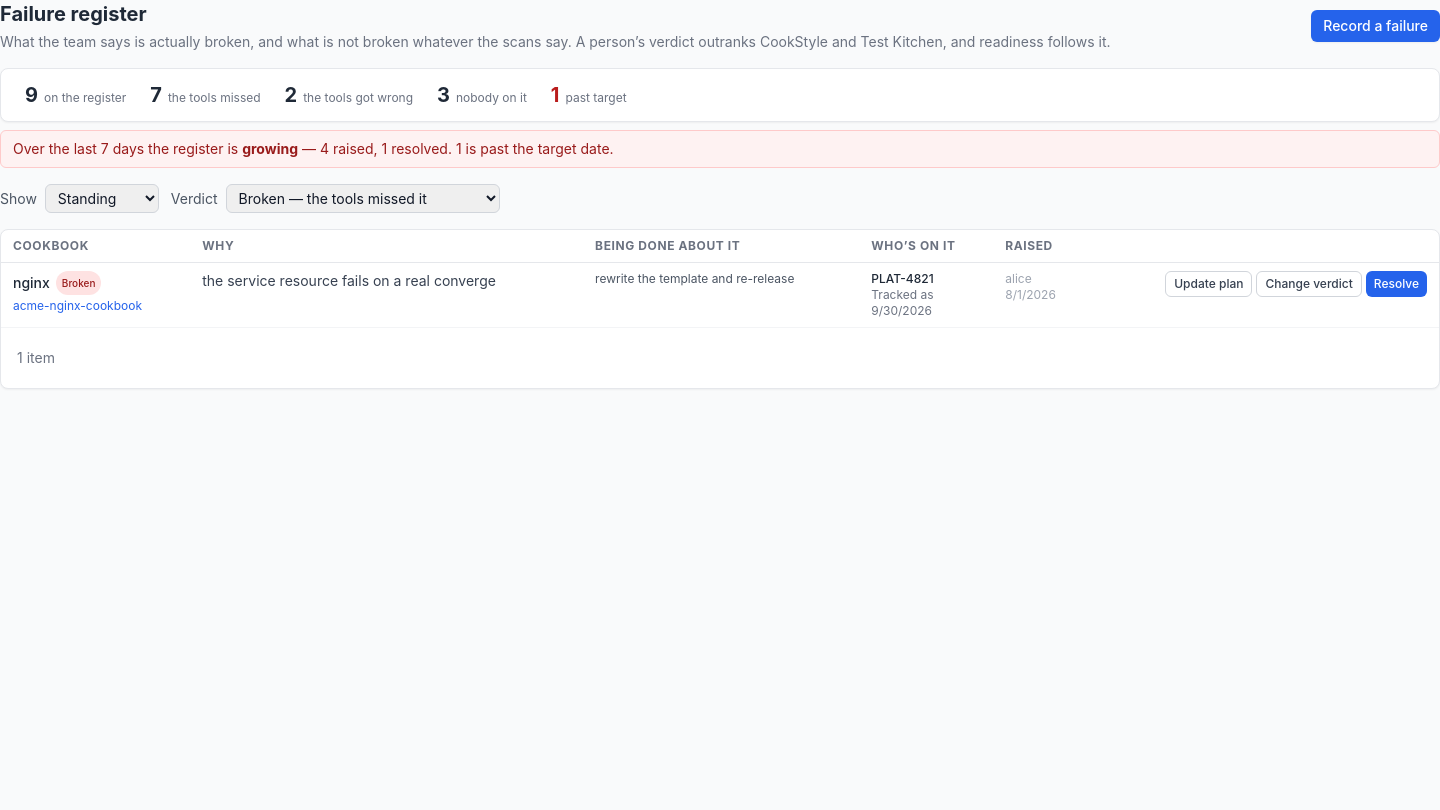
Test case: FailureRegisterPage › will not submit a repo name that was typed rather than chosen
This screenshot has width=1440, height=810.
Step 1. Click the button "Record a failure" → {"x": 1376, "y": 26}, box [1311,10,1439,42]
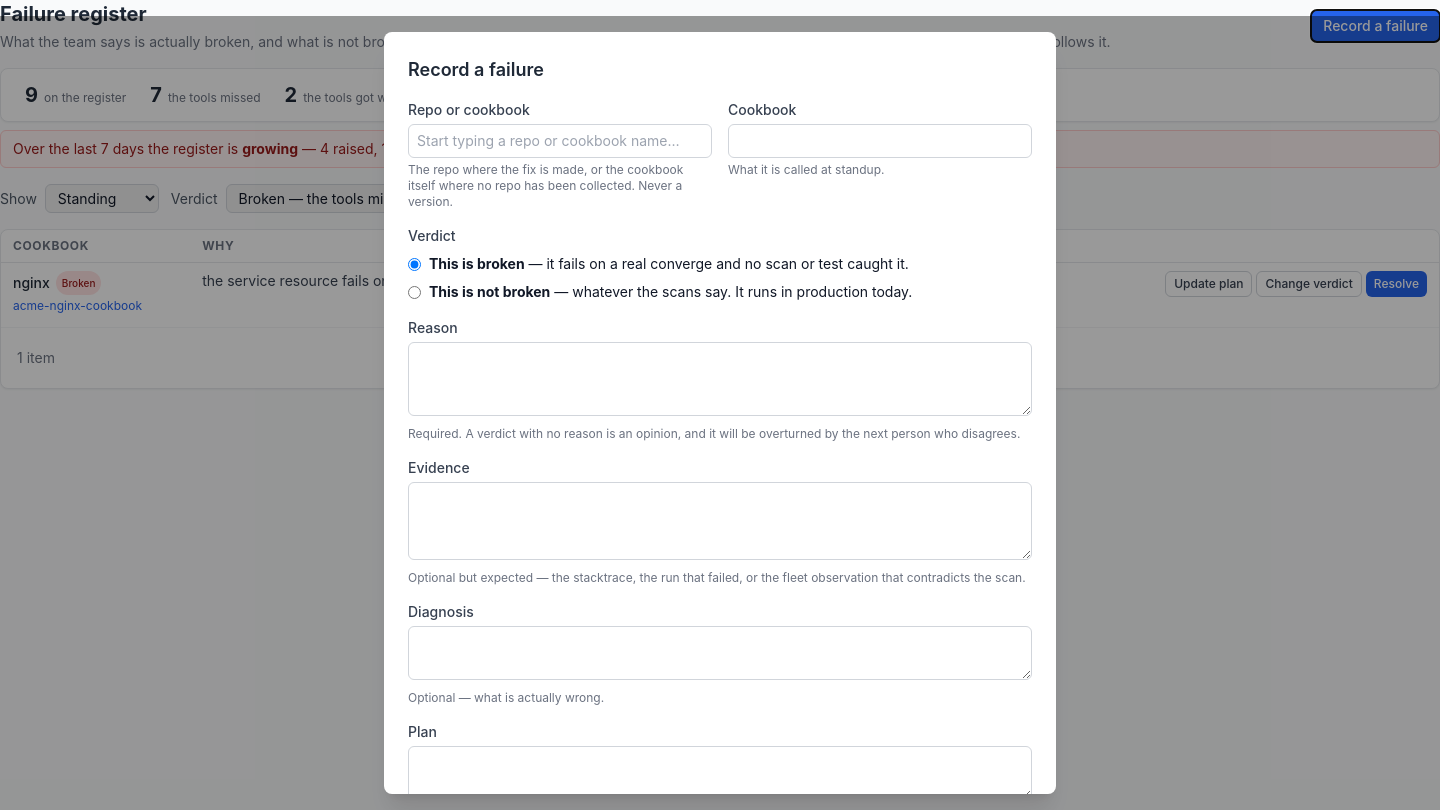
Step 2. Type "a-repo-that-is-not-real" into the dropdown labelled "Repo or cookbook" → {"x": 560, "y": 141}, box [408,124,712,158]
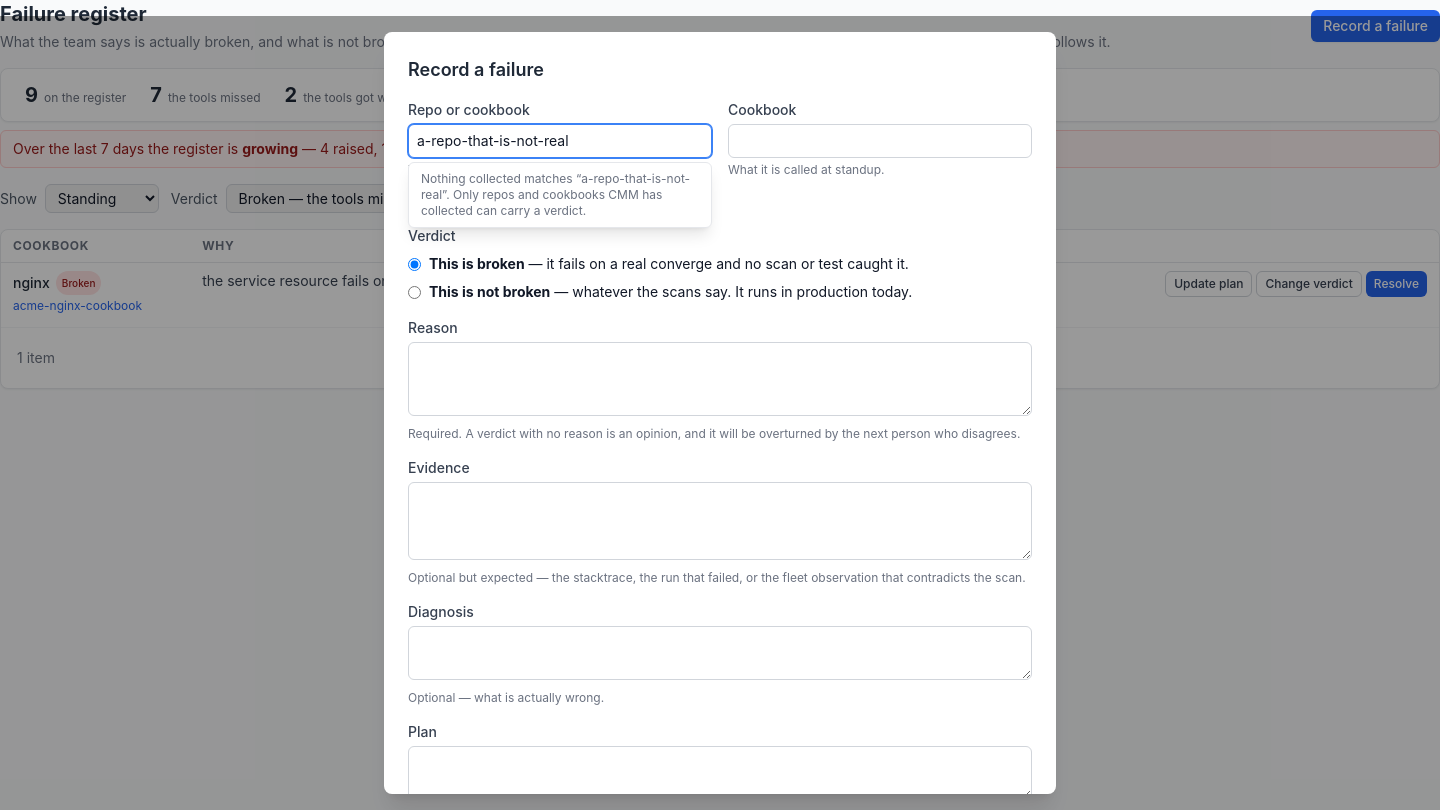
Step 3. Type "whatever" into the field labelled "Cookbook What it is called at standup." → {"x": 880, "y": 141}, box [728,124,1032,158]
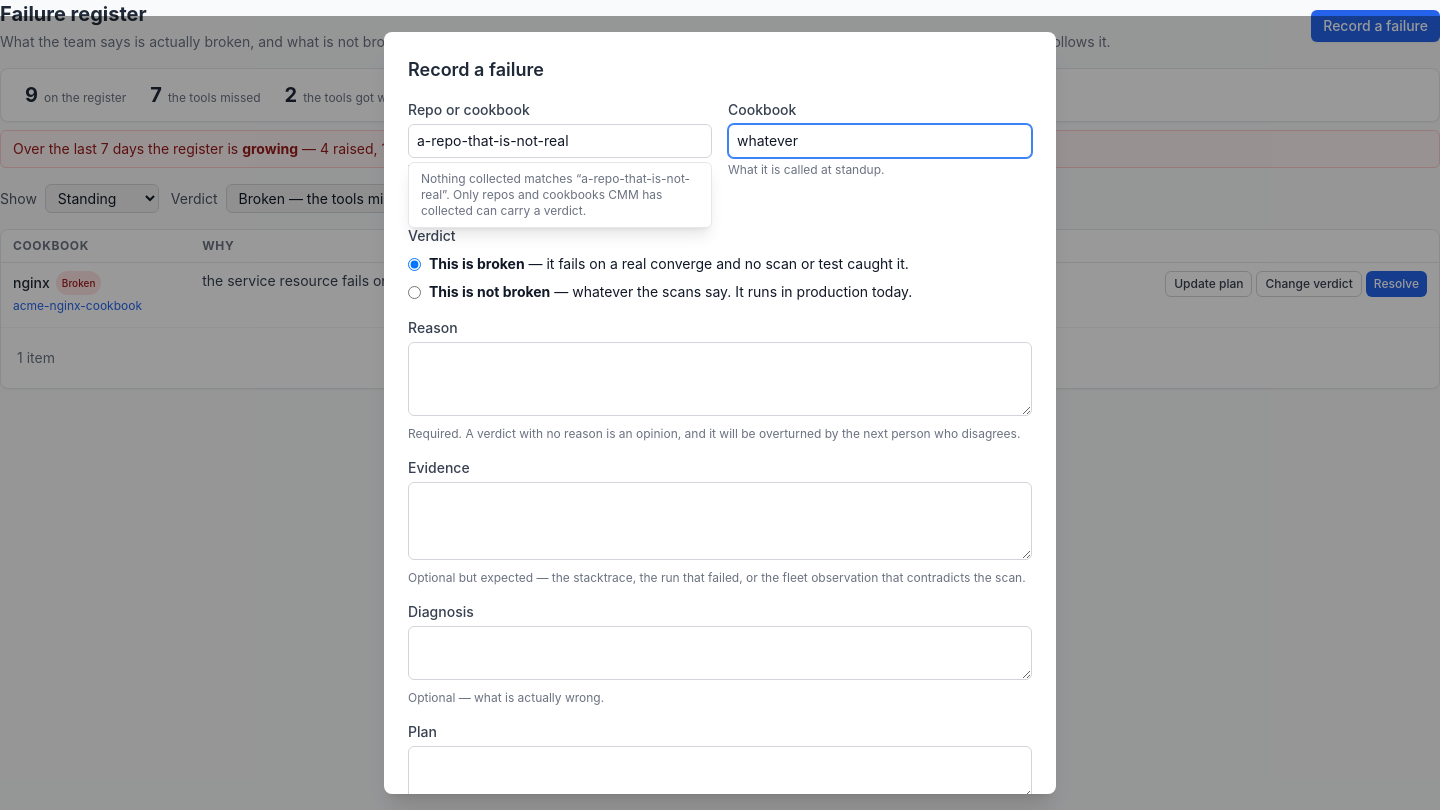
Step 4. Type "it broke" into the text box labelled "Reason" → {"x": 720, "y": 379}, box [408,342,1032,416]
(page scrolled)
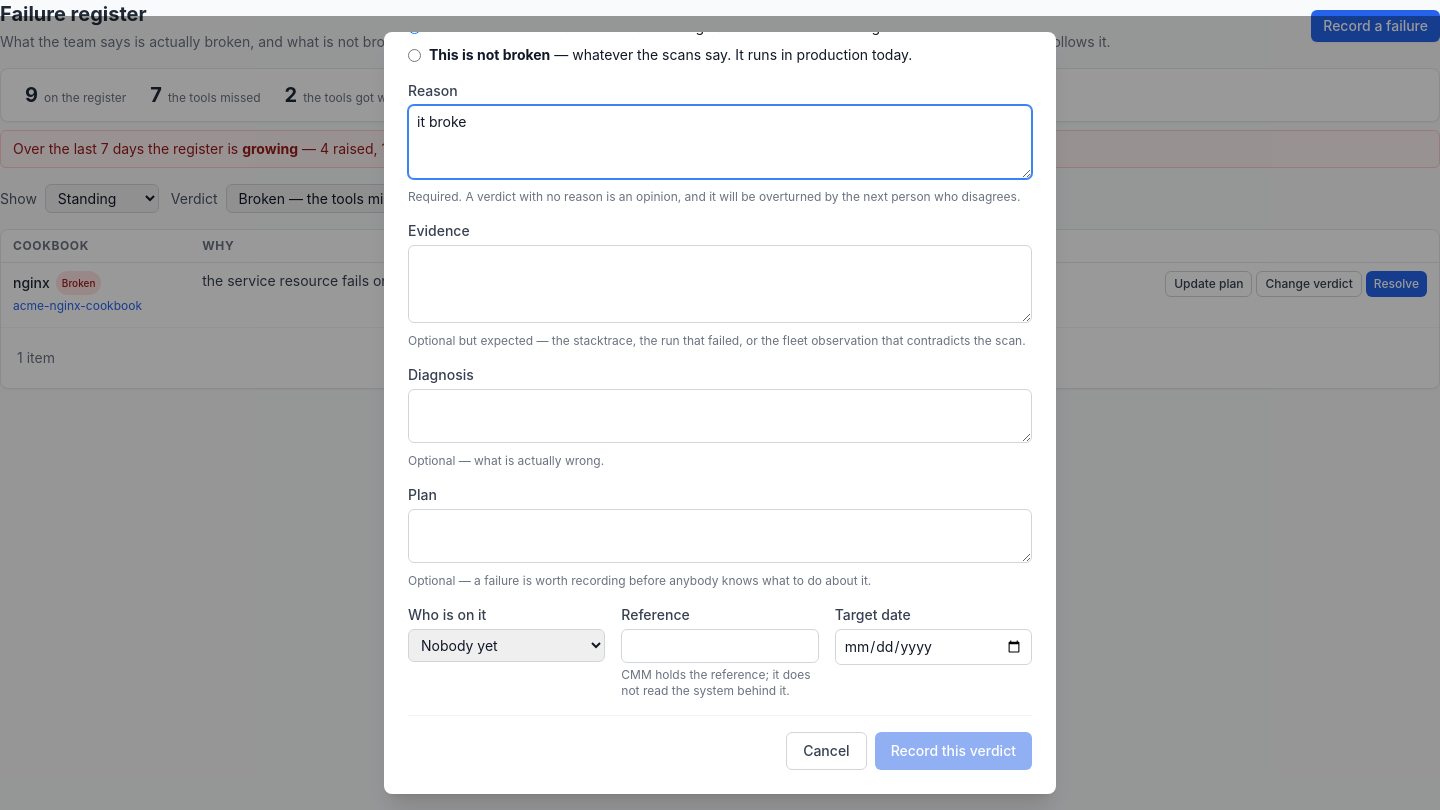
Expected: the button "Record this verdict" is disabled, [875,732,1032,770]
